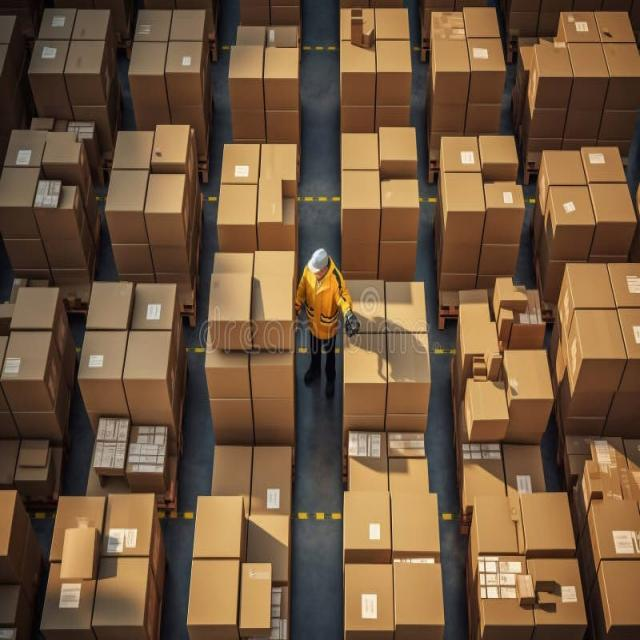box: (88, 547, 163, 640), (518, 547, 588, 632), (125, 333, 178, 434), (507, 346, 559, 447), (570, 310, 627, 398), (475, 552, 533, 632), (342, 329, 392, 414), (70, 333, 124, 411), (188, 557, 241, 636), (395, 560, 447, 636), (50, 551, 94, 640), (346, 557, 394, 638), (194, 489, 244, 562), (101, 497, 170, 549), (9, 332, 54, 408), (589, 185, 640, 252), (482, 178, 529, 250), (80, 274, 138, 332), (478, 493, 526, 563), (216, 445, 260, 521), (250, 444, 294, 520), (524, 487, 576, 550), (391, 490, 445, 550), (591, 488, 640, 554), (154, 175, 194, 255), (57, 493, 104, 561), (342, 490, 389, 553), (457, 298, 498, 370), (544, 191, 597, 246), (252, 283, 294, 352), (256, 188, 302, 251), (378, 44, 418, 116), (386, 340, 432, 402), (444, 166, 483, 238), (338, 278, 387, 335), (384, 280, 432, 338), (240, 565, 280, 634), (567, 44, 613, 104), (266, 42, 304, 114), (566, 259, 614, 316), (464, 380, 508, 442), (128, 280, 186, 327), (210, 282, 252, 346), (530, 40, 570, 105), (218, 184, 256, 249), (110, 174, 147, 240), (71, 32, 111, 92), (258, 140, 308, 187), (164, 47, 206, 102), (469, 38, 506, 100), (347, 434, 388, 489), (228, 47, 268, 103), (210, 340, 253, 392), (585, 140, 633, 186), (556, 0, 605, 44), (2, 172, 36, 235), (341, 41, 375, 104), (43, 183, 79, 242), (436, 35, 470, 97), (542, 143, 585, 192), (339, 182, 378, 234), (18, 284, 63, 329), (257, 357, 296, 408), (380, 126, 425, 170), (605, 41, 640, 97), (128, 41, 166, 92), (384, 180, 418, 237), (389, 450, 435, 491), (222, 142, 267, 183), (166, 3, 212, 43), (157, 124, 196, 171), (62, 532, 99, 581), (214, 243, 260, 282), (250, 179, 285, 229), (255, 251, 297, 290), (116, 128, 154, 168), (480, 138, 522, 174), (74, 5, 114, 42), (138, 7, 172, 50), (443, 144, 484, 177), (340, 138, 382, 170), (12, 132, 42, 173), (36, 36, 66, 70), (41, 9, 76, 36)
